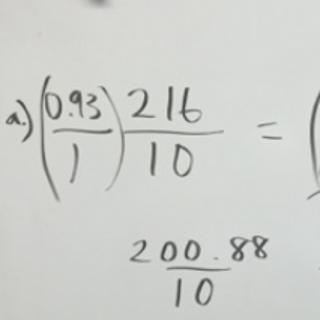.: (67, 108, 74, 118)
0: (170, 141, 198, 178), (43, 92, 62, 121), (196, 278, 215, 306), (160, 240, 178, 264), (183, 240, 201, 261)
1: (67, 141, 82, 183), (148, 140, 157, 179), (165, 85, 175, 119), (174, 277, 184, 307)
2: (127, 86, 154, 120), (128, 239, 149, 265)
3: (85, 92, 101, 123)
6: (178, 84, 204, 126)
8: (229, 236, 248, 264), (252, 233, 269, 260)
9: (68, 89, 85, 119)
